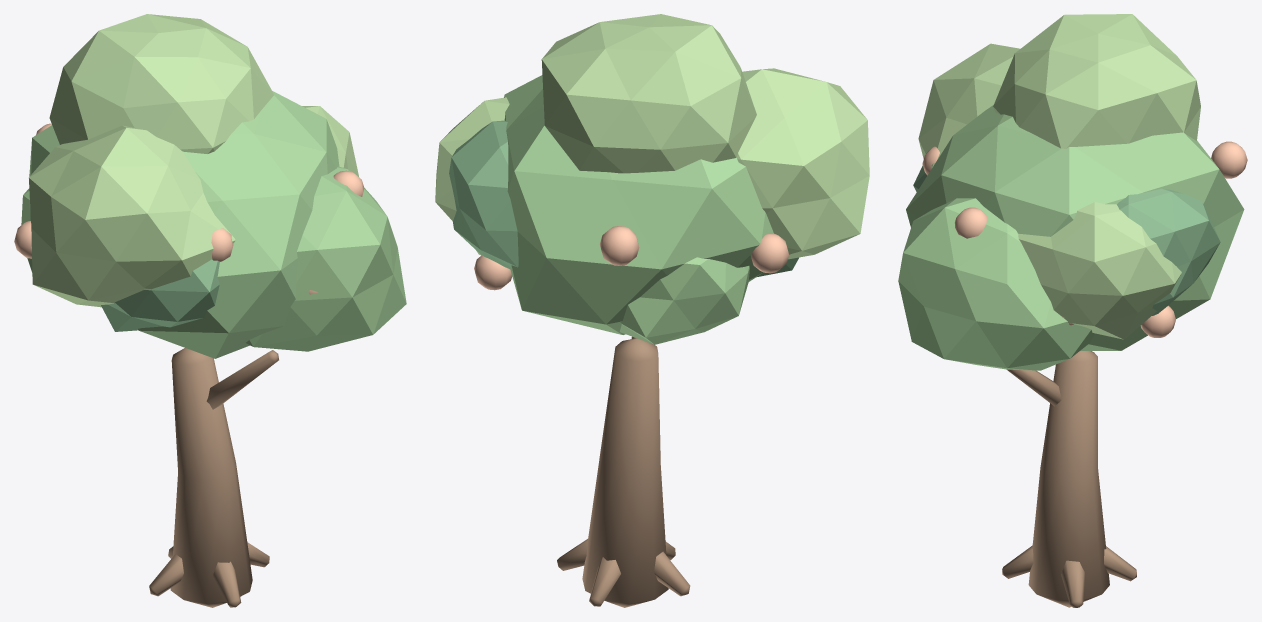
Rendered from tree_fruit_pessego.glb.
The picture shows the model from 3 angles, left to right: view 1: azimuth 30°, elevation 25°; view 2: azimuth 150°, elevation 25°; view 3: azimuth 270°, elevation 25°; orthographic projection. The views are drawn at different scales.
Visible parts, largest first — view 1: tree_fruit_pessego; view 2: tree_fruit_pessego; view 3: tree_fruit_pessego.
Part boxes in pixels (x1=…): tree_fruit_pessego: x1=14, y1=14, x2=406, y2=607; tree_fruit_pessego: x1=435, y1=14, x2=869, y2=607; tree_fruit_pessego: x1=898, y1=14, x2=1247, y2=607.
Bounding box in the file's own units: 2.34 × 3.62 × 2.06.
